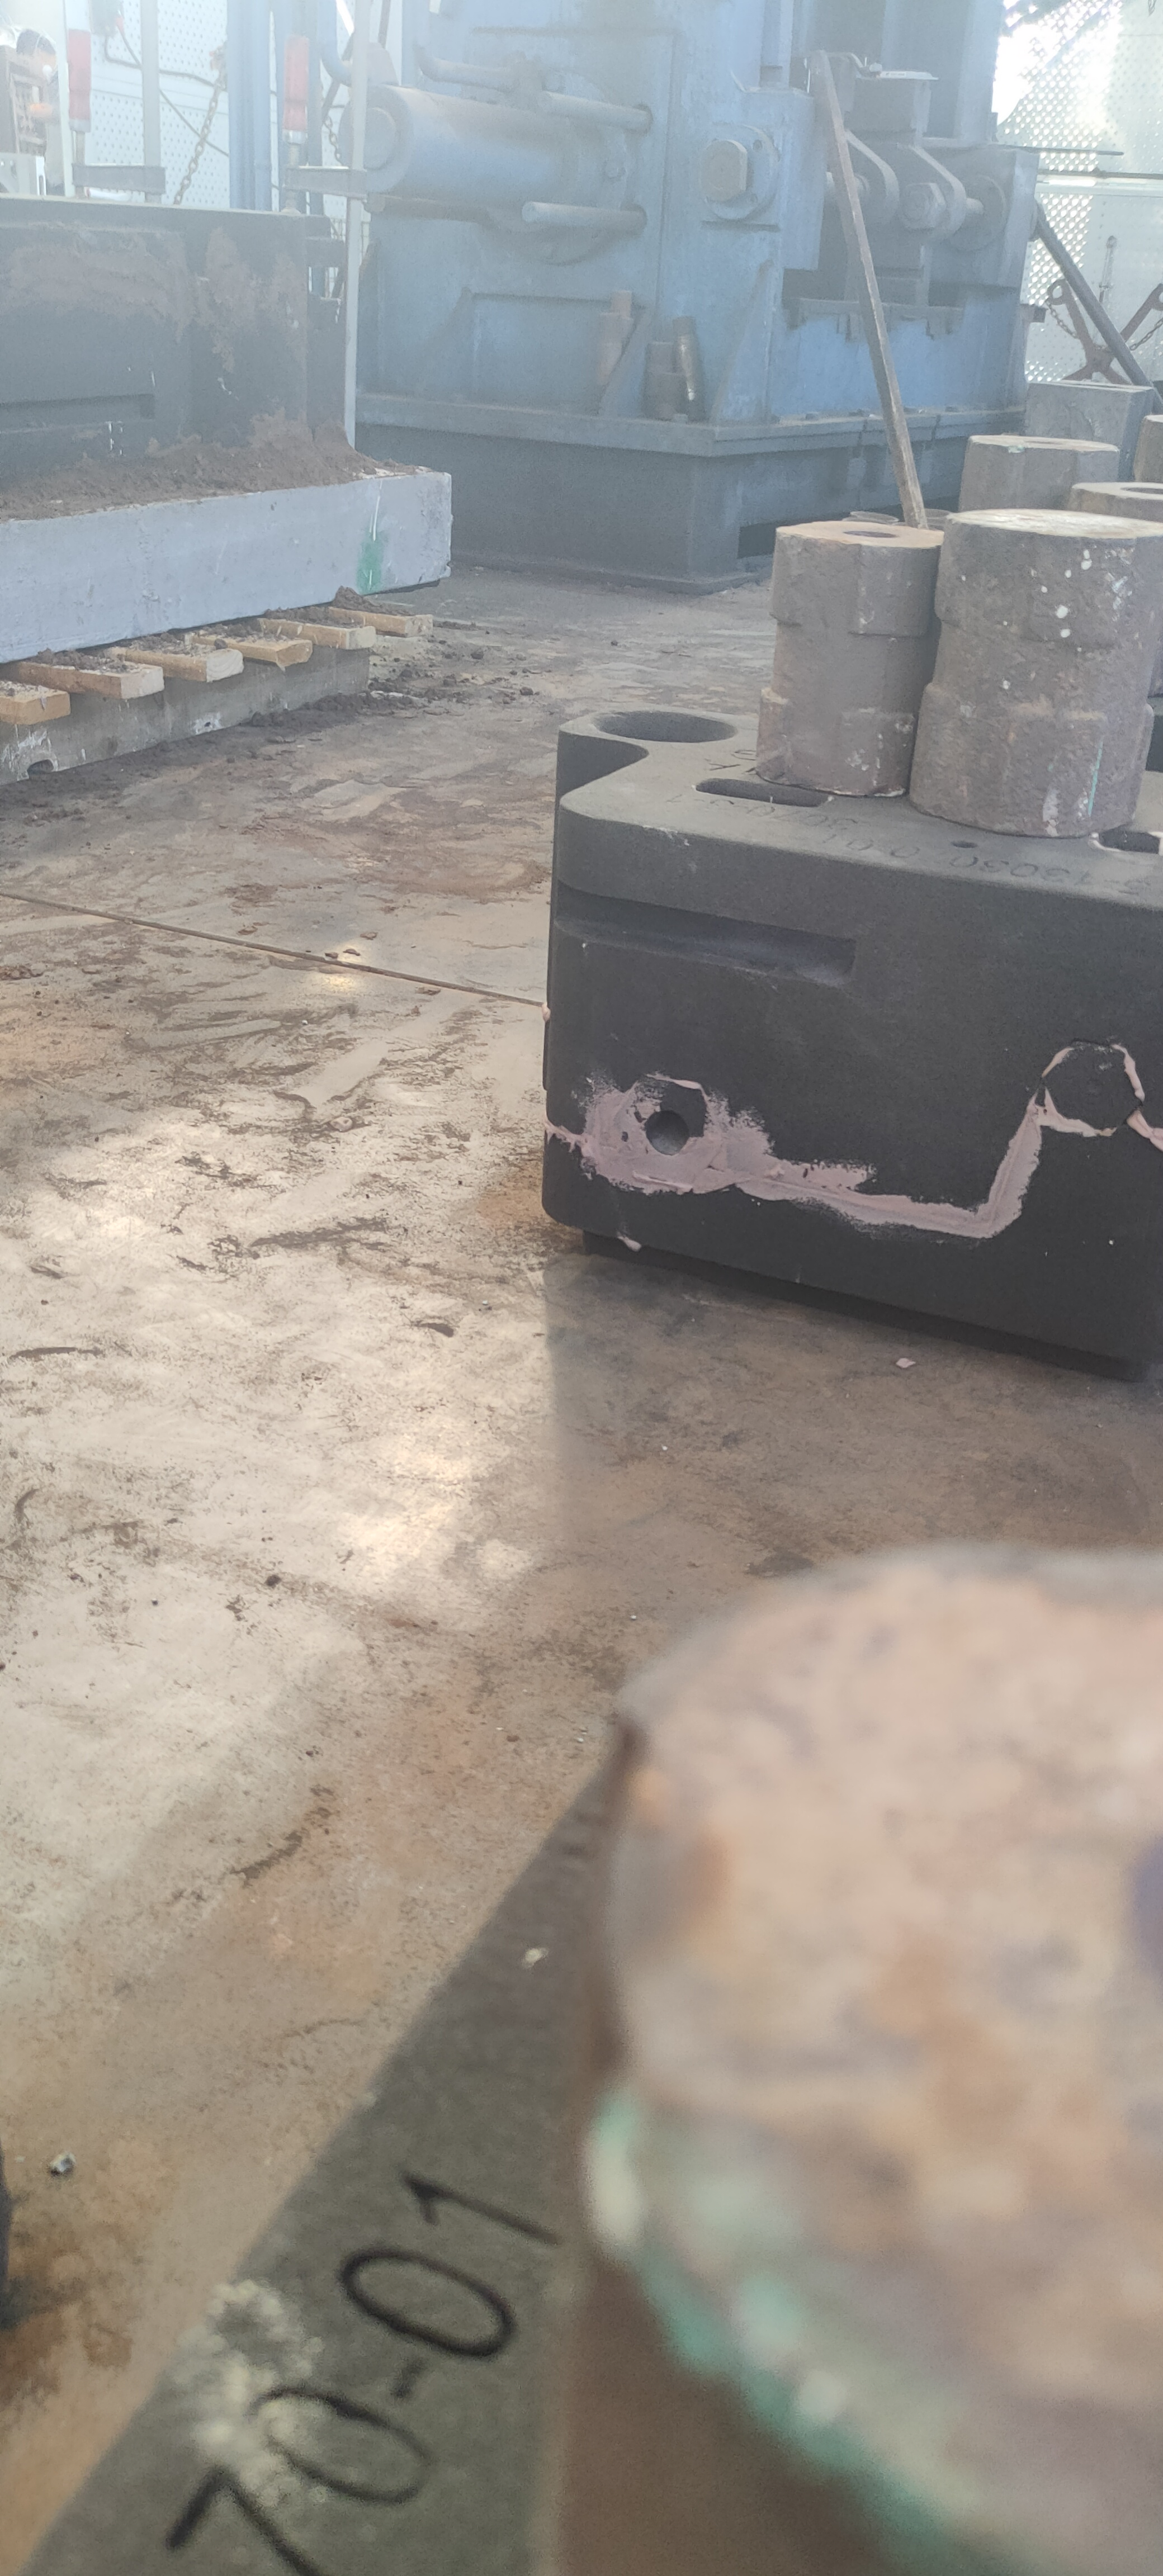pouring hole: (593, 706, 733, 744), (841, 516, 889, 531), (892, 521, 943, 534), (853, 508, 897, 521), (908, 508, 953, 519)
